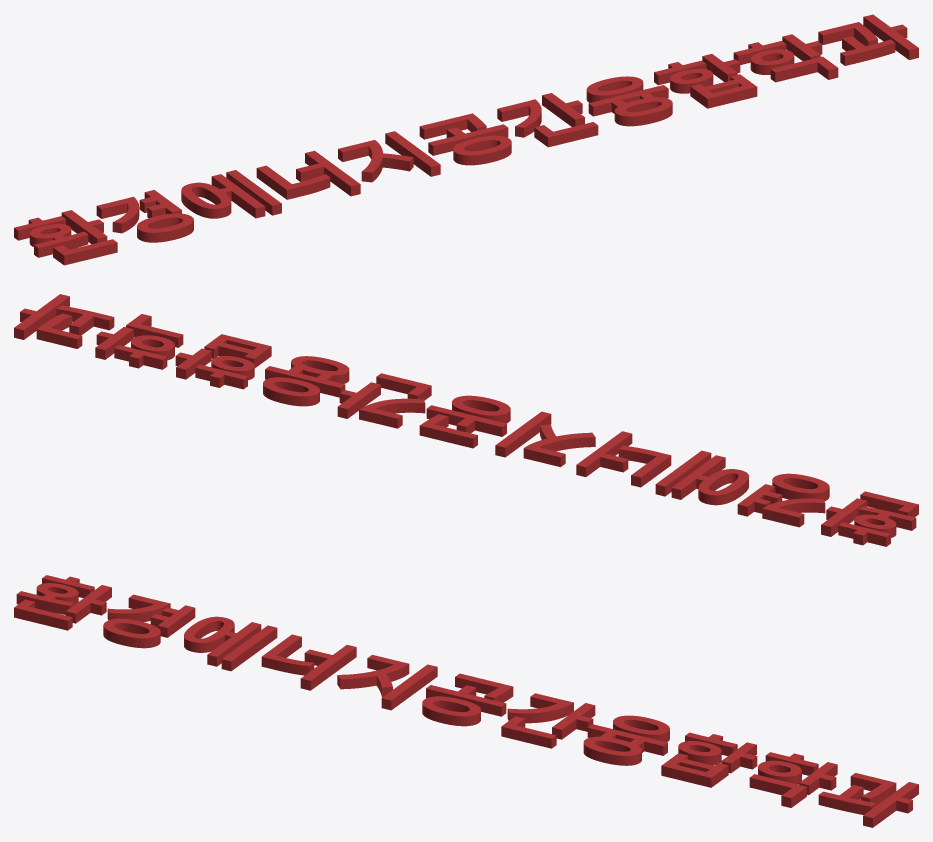
File: true4.fbx
3 views of the same model, one above another, from view 1: azimuth 30°, elevation 25°; view 2: azimuth 150°, elevation 25°; view 3: azimuth 330°, elevation 25° (orthographic).
Parts seen in each view (by area): view 1: Text; view 2: Text; view 3: Text.
Boxes of the visible parts, bbox=[...] form: Text: bbox=[14, 14, 918, 265]; Text: bbox=[14, 294, 918, 546]; Text: bbox=[14, 575, 918, 827].
Bounding box in the file's own units: 843 × 9.02 × 77.85.
